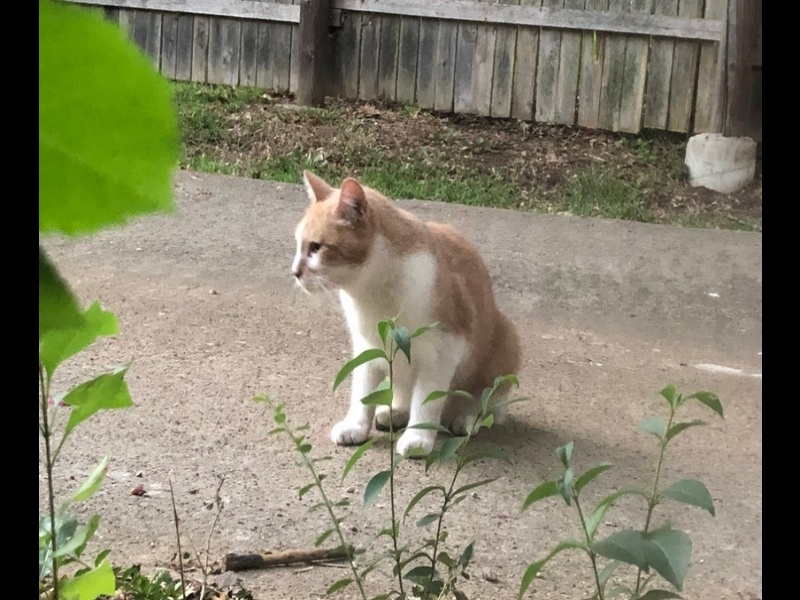cat: (287, 166, 528, 458)
